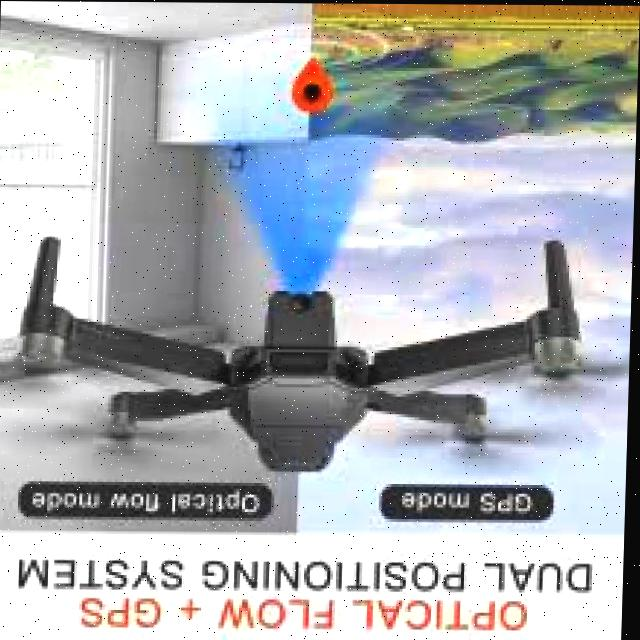drone: (0, 210, 603, 502)
